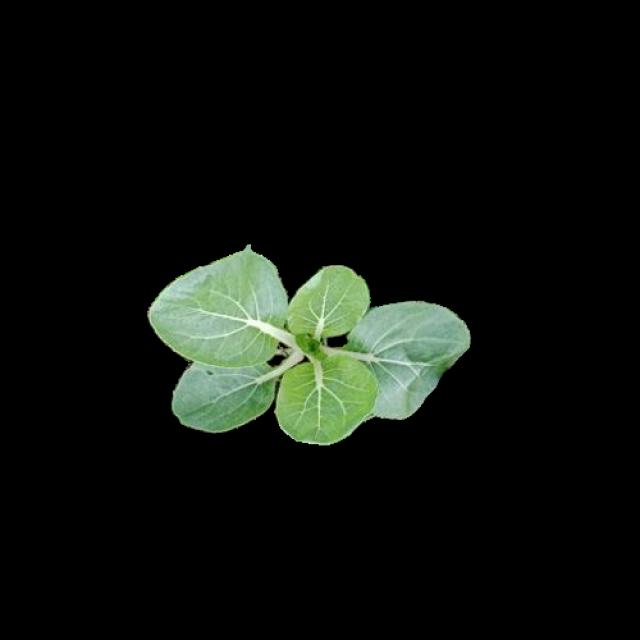healthy: (147, 251, 467, 441)
not-mature: (150, 254, 470, 444)
